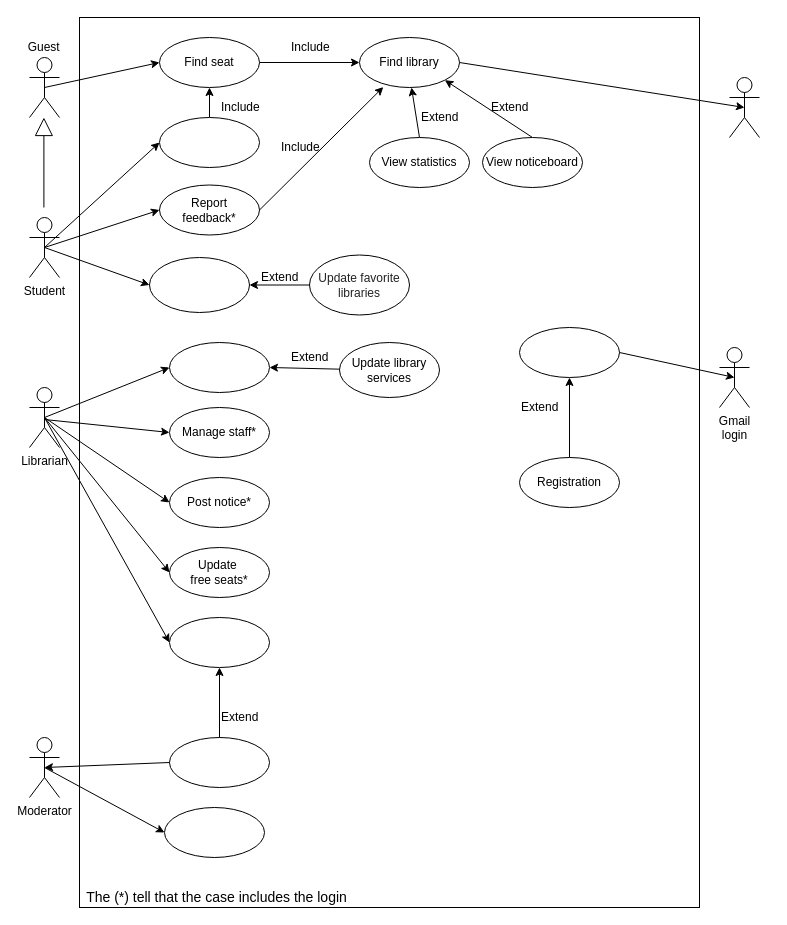
Some shapes in this 787 by 925 pixel diagram are drawn without their labels. The shapes that lost their labels are listed below. From the top down, each one's centre as x and y in pixels, then its label:
At [744,107]: "Google Maps API".
At [209,142]: "Book seat*".
At [199,284]: "Manage personal information*".
At [219,367]: "Update account information*".
At [569,352]: "Login*".
At [219,642]: "Manage feedback*".
At [219,762]: "Report student".
At [214,832]: "Ban student*".
